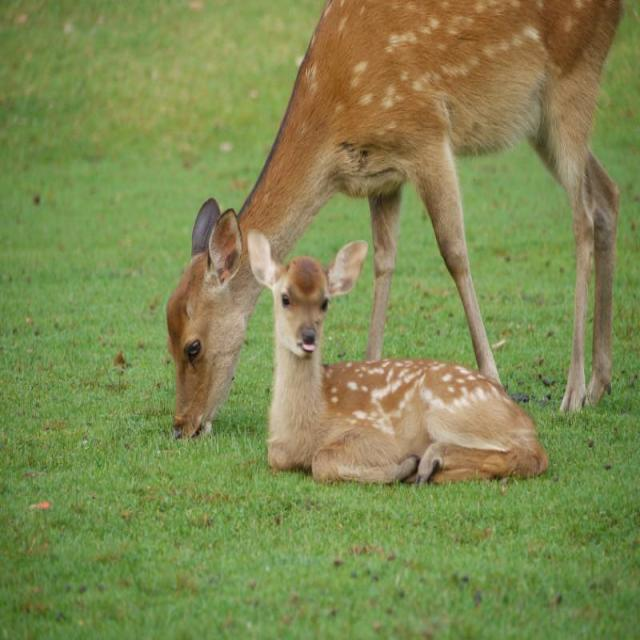not_pig: (165, 0, 625, 442), (246, 228, 548, 486)
